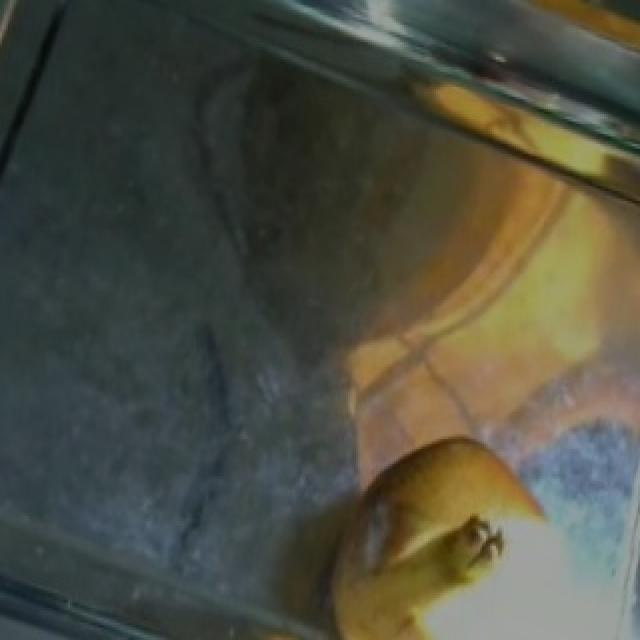fruit: (316, 414, 578, 638)
